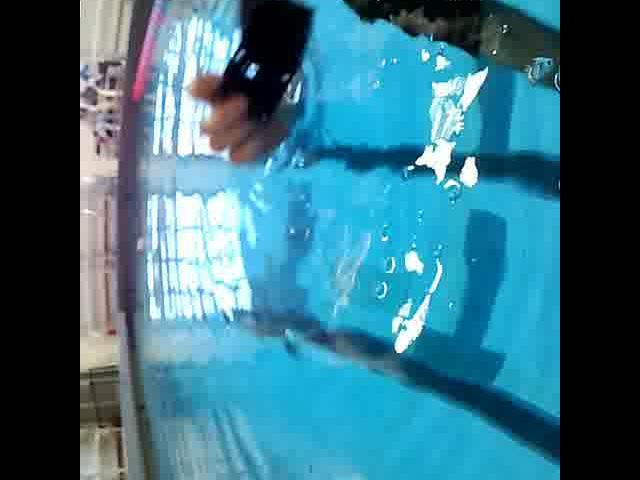CamMount: (204, 0, 326, 126)
